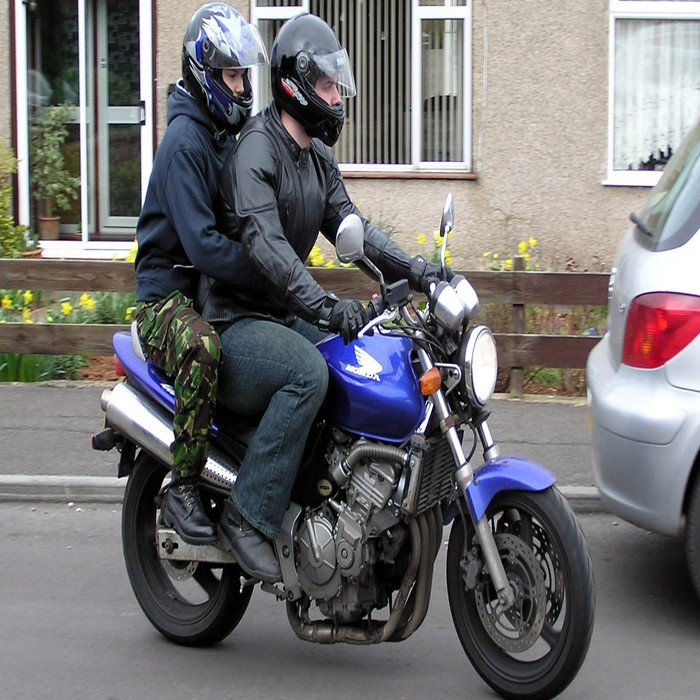h: (268, 4, 364, 154), (176, 1, 266, 151)
